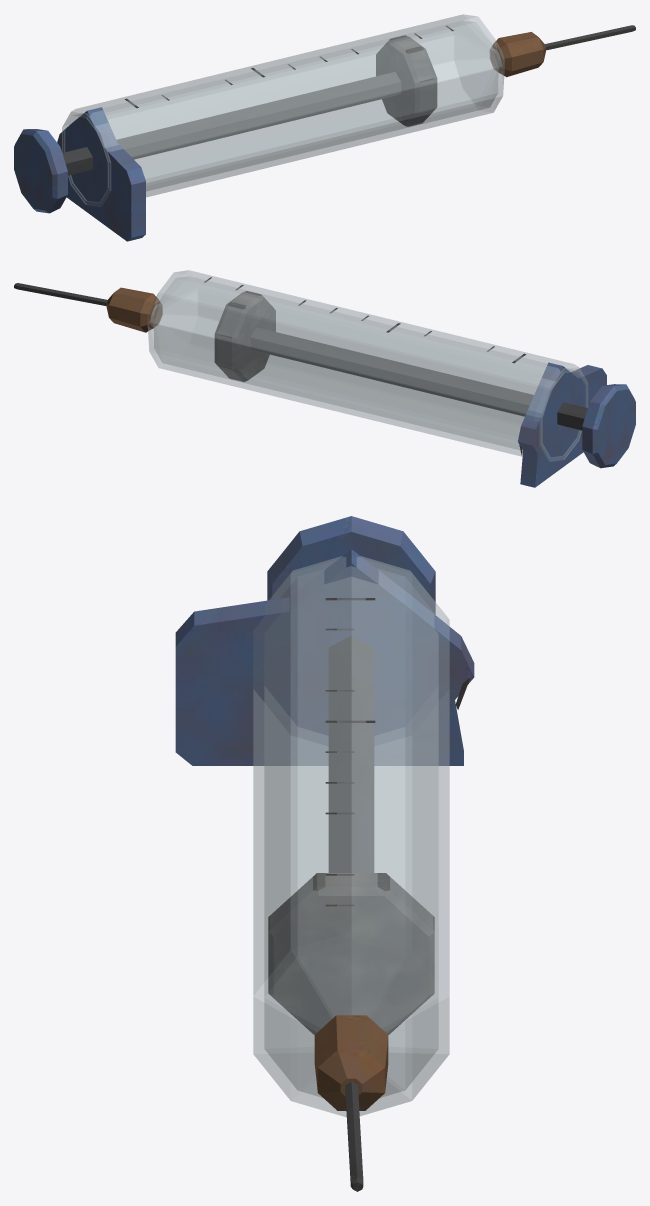
File: HE01_old_syringes_v3.glb
3 renders of one model, top to bottom at view 1: azimuth 30°, elevation 25°; view 2: azimuth 150°, elevation 25°; view 3: azimuth 270°, elevation 25°, orthographic. The views are drawn at different scales.
Visible parts, largest first — view 1: Barrel wall and open rear rim; view 2: Barrel wall and open rear rim; view 3: Barrel wall and open rear rim.
Part boxes in pixels (left/top/right/bottom): Barrel wall and open rear rim: left=14, top=14, right=635, bottom=241; Barrel wall and open rear rim: left=14, top=270, right=635, bottom=487; Barrel wall and open rear rim: left=175, top=516, right=474, bottom=1191.
Size of the model in its own units: 0.15 by 0.0242 by 0.0323.
Materials: 6 (5 with a texture image).
